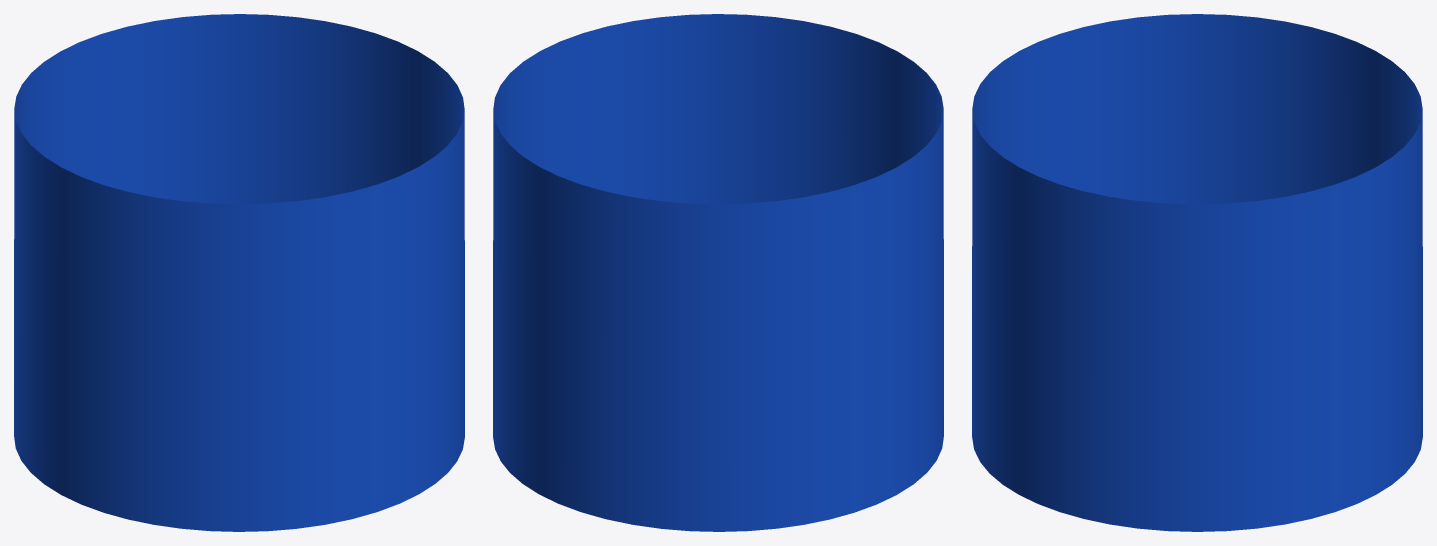
The model's file is bucketNoBottom.glb.
3 renders of one model, left to right at view 1: azimuth 30°, elevation 25°; view 2: azimuth 150°, elevation 25°; view 3: azimuth 270°, elevation 25°, orthographic.
Visible parts, largest first — view 1: Base (Path).001; view 2: Base (Path).001; view 3: Base (Path).001.
Part boxes in pixels (<box>): Base (Path).001: <box>14,14,464,531</box>; Base (Path).001: <box>493,14,943,531</box>; Base (Path).001: <box>972,14,1422,531</box>.
Bounding box in the file's own units: 4 × 3.21 × 4.
